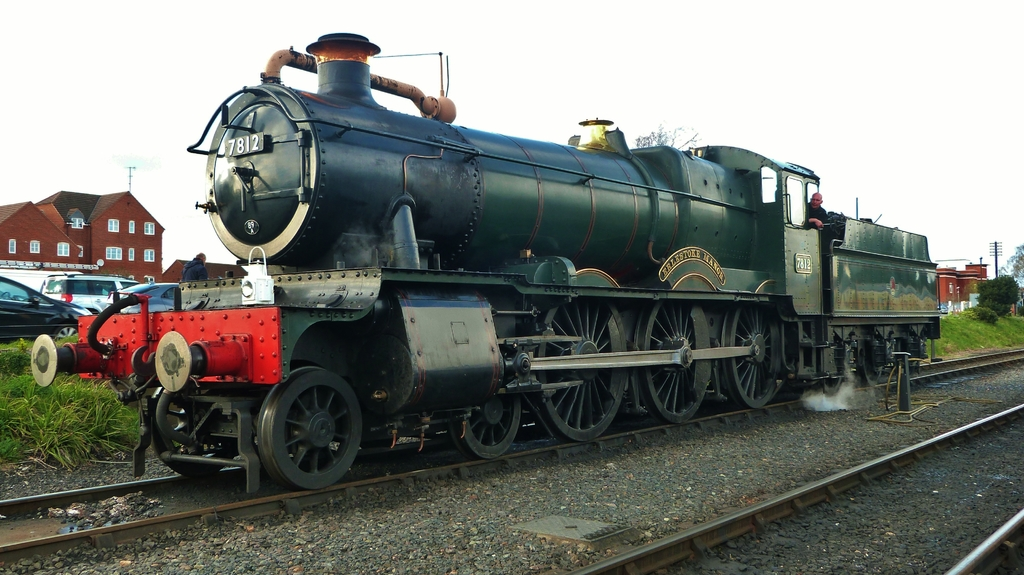Car: (0, 274, 88, 344), (35, 274, 140, 312)
